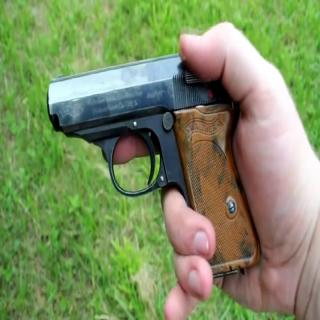gun: (47, 27, 270, 294)
